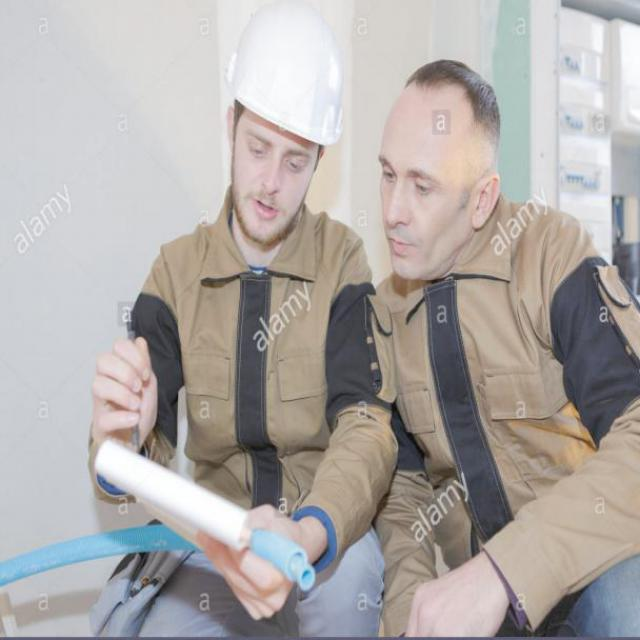helmet: (223, 5, 345, 234)
